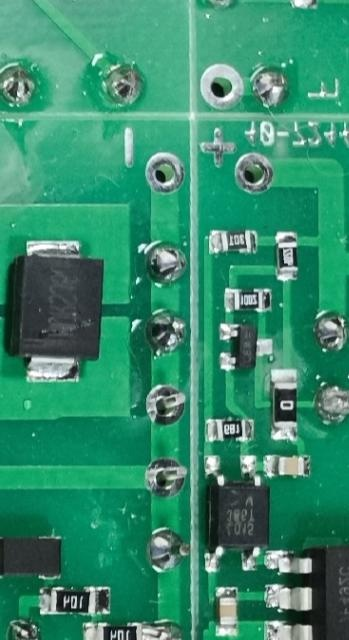chip-capacitor: (211, 585, 237, 638), (261, 454, 310, 478)
chip-resistor: (36, 584, 112, 616), (266, 366, 298, 442), (201, 416, 253, 444), (220, 285, 273, 312), (271, 230, 297, 284), (205, 229, 258, 255), (79, 620, 144, 640)
diode: (3, 238, 103, 385), (0, 534, 63, 582)
ic: (260, 544, 349, 640), (199, 452, 268, 573)
transistor: (215, 323, 272, 373)
